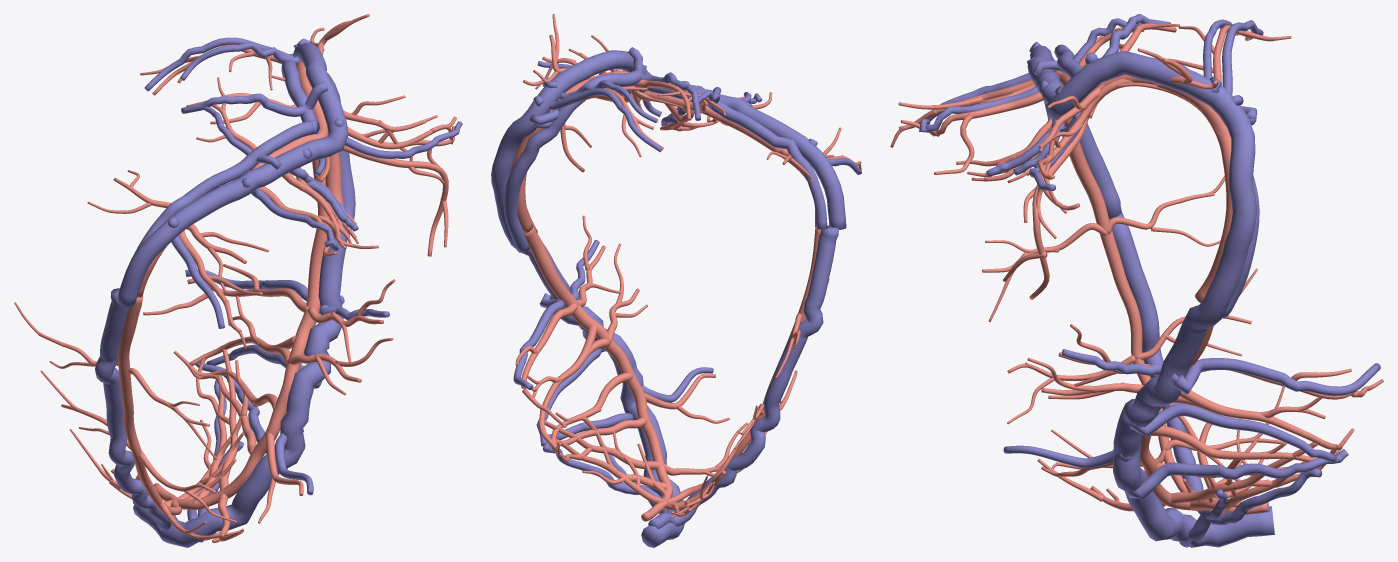
Rendered from vessels_8.glb.
3 views of the same model, side by side, from view 1: azimuth 30°, elevation 25°; view 2: azimuth 150°, elevation 25°; view 3: azimuth 270°, elevation 25° (orthographic). The views are drawn at different scales.
Parts seen in each view (by area): view 1: Renderer Node; view 2: Renderer Node; view 3: Renderer Node.
Boxes of the visible parts, left/top/right/bottom form: Renderer Node: left=14, top=14, right=462, bottom=547; Renderer Node: left=491, top=14, right=861, bottom=547; Renderer Node: left=890, top=14, right=1383, bottom=547.
Bounding box in the file's own units: 90.15 × 119 × 90.4.
